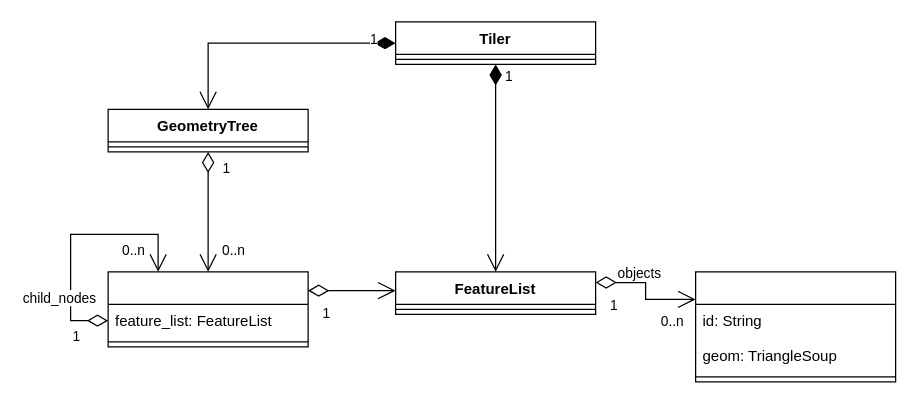
The diagram is 918 pixels wide and 404 high, and some of its shapes have lost their labels. The shapes that lost their labels are listed below. From the top down, each one's box as (x1, y1, x2, y2) in pixels, then its label:
(107, 271, 308, 347): GeometryNode
(694, 271, 896, 382): Feature
